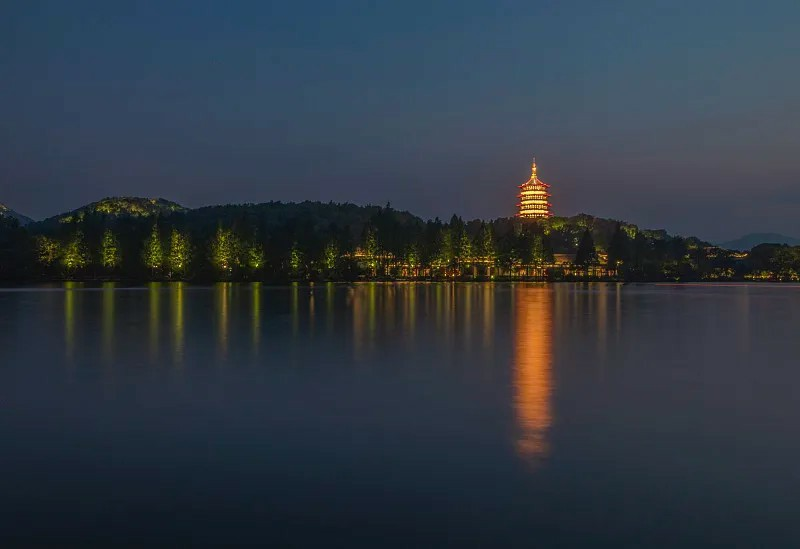Leifeng: (514, 156, 553, 224)
